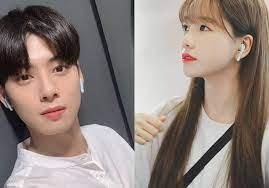earphone: (233, 41, 249, 67), (0, 91, 15, 112), (78, 74, 88, 95)
